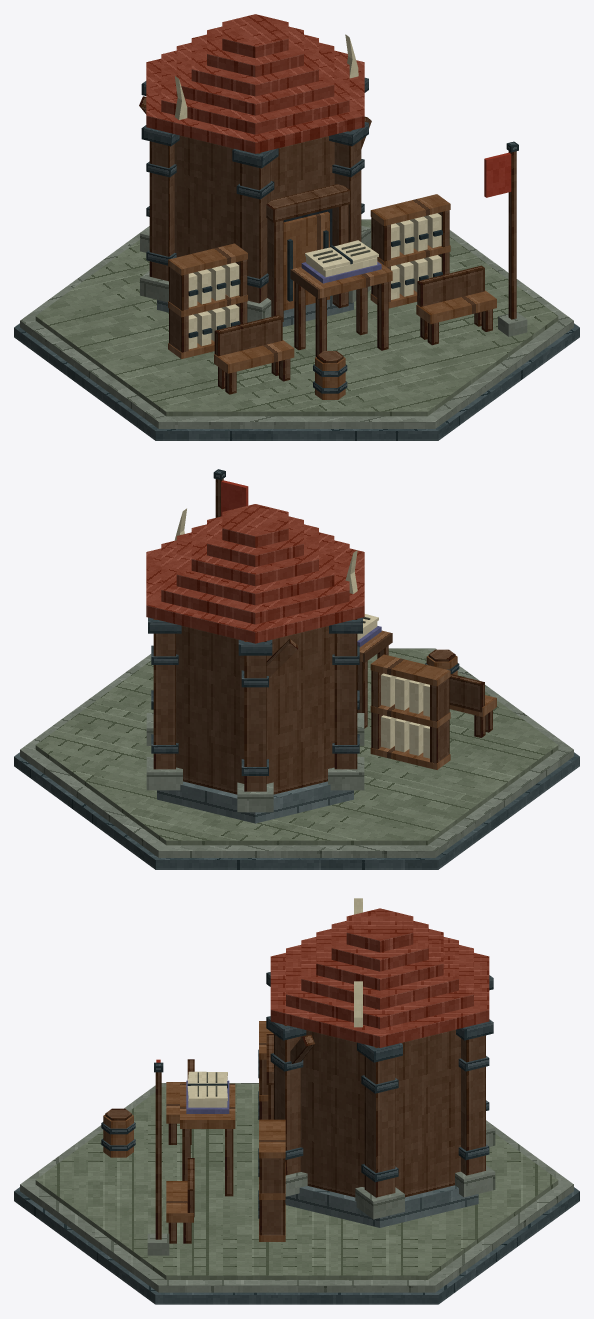
The model's file is orc_university_hex_v1.glb.
3 views of the same model, one above another, from view 1: azimuth 30°, elevation 25°; view 2: azimuth 150°, elevation 25°; view 3: azimuth 270°, elevation 25° (orthographic).
Parts seen in each view (by area): view 1: Orc_University_Hex_V1_Foundation, Orc_University_Hex_V1_Details, Orc_University_Hex_V1_Roofs, Orc_University_Hex_V1_Structure, Orc_University_Hex_V1_Hall, Orc_University_Hex_V1_Faction; view 2: Orc_University_Hex_V1_Foundation, Orc_University_Hex_V1_Hall, Orc_University_Hex_V1_Roofs, Orc_University_Hex_V1_Details, Orc_University_Hex_V1_Structure, Orc_University_Hex_V1_Faction; view 3: Orc_University_Hex_V1_Foundation, Orc_University_Hex_V1_Hall, Orc_University_Hex_V1_Roofs, Orc_University_Hex_V1_Details, Orc_University_Hex_V1_Structure.
Boxes of the visible parts, box(x1,y1,x2,y2) form: Orc_University_Hex_V1_Foundation: box(14, 219, 579, 440); Orc_University_Hex_V1_Details: box(146, 34, 527, 399); Orc_University_Hex_V1_Roofs: box(146, 14, 364, 153); Orc_University_Hex_V1_Structure: box(139, 77, 371, 322); Orc_University_Hex_V1_Hall: box(157, 135, 353, 326); Orc_University_Hex_V1_Faction: box(484, 152, 511, 197); Orc_University_Hex_V1_Foundation: box(14, 648, 579, 869); Orc_University_Hex_V1_Hall: box(157, 626, 353, 823); Orc_University_Hex_V1_Roofs: box(146, 504, 364, 643); Orc_University_Hex_V1_Details: box(151, 469, 496, 775); Orc_University_Hex_V1_Structure: box(146, 617, 364, 812); Orc_University_Hex_V1_Faction: box(221, 480, 248, 516); Orc_University_Hex_V1_Foundation: box(14, 1083, 579, 1304); Orc_University_Hex_V1_Hall: box(285, 1029, 478, 1227); Orc_University_Hex_V1_Roofs: box(270, 908, 489, 1047); Orc_University_Hex_V1_Details: box(101, 898, 489, 1255); Orc_University_Hex_V1_Structure: box(266, 972, 495, 1219).
Size of the model in its own units: 1.59 by 0.992 by 1.84.
Materials: 1 (1 with a texture image).
